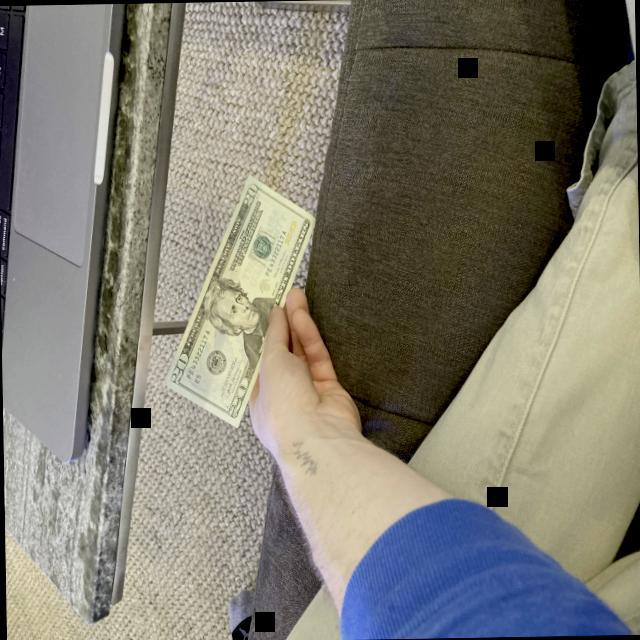twenty: (163, 171, 317, 429)
